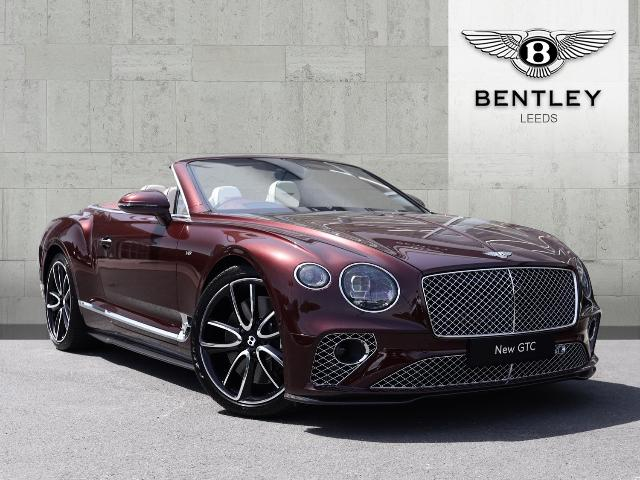bentley: (37, 154, 603, 416)
